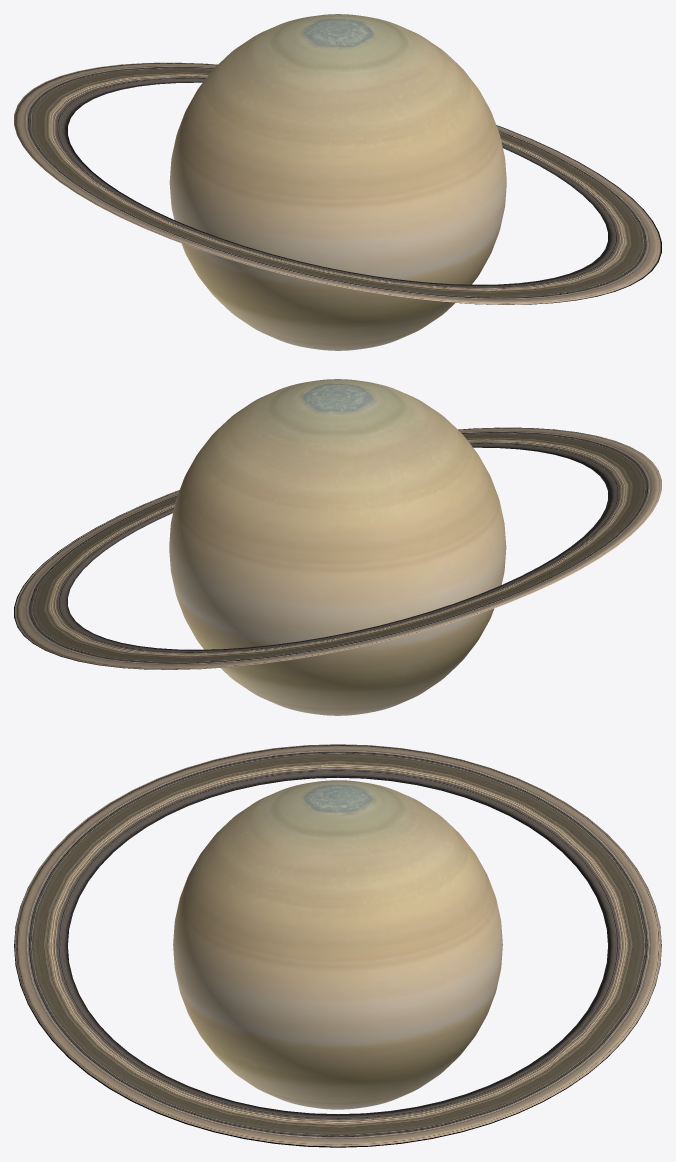
Rendered from saturn.glb.
3 renders of one model, top to bottom at view 1: azimuth 30°, elevation 25°; view 2: azimuth 150°, elevation 25°; view 3: azimuth 270°, elevation 25°, orthographic. The views are drawn at different scales.
Parts seen in each view (by area): view 1: Sphere_Material.002_0, Circle_ring_0; view 2: Sphere_Material.002_0, Circle_ring_0; view 3: Sphere_Material.002_0, Circle_ring_0.
Boxes of the visible parts, x1,y1,x2,y2 form: Sphere_Material.002_0: [169, 14, 506, 350]; Circle_ring_0: [14, 62, 661, 304]; Sphere_Material.002_0: [169, 379, 506, 715]; Circle_ring_0: [14, 427, 661, 669]; Sphere_Material.002_0: [173, 780, 502, 1109]; Circle_ring_0: [14, 744, 661, 1147].
Size of the model in its own units: 0.4862 by 0.2545 by 0.5.
2 materials, 2 textured.
